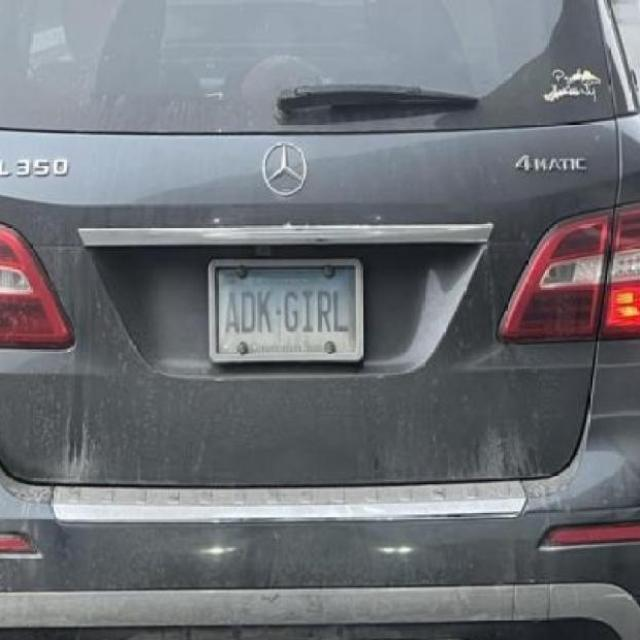license-plate: (205, 251, 360, 363)
